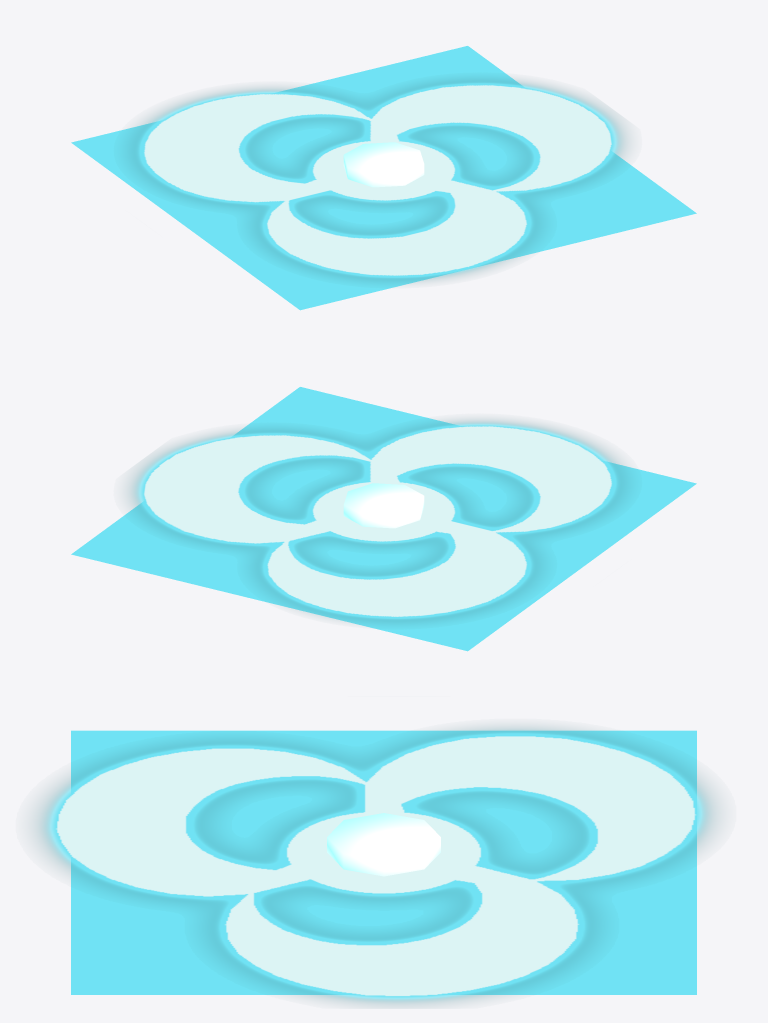
Rendered from fx_glaive_t3.glb.
3 renders of one model, top to bottom at view 1: azimuth 30°, elevation 25°; view 2: azimuth 150°, elevation 25°; view 3: azimuth 270°, elevation 25°, orthographic. The views are drawn at different scales.
Parts seen in each view (by area): view 1: fx_glaive, fx_glaive_halo, fx_glaive_metal; view 2: fx_glaive, fx_glaive_halo, fx_glaive_metal; view 3: fx_glaive, fx_glaive_halo, fx_glaive_metal.
Boxes of the visible parts, left/top/right/bottom form: fx_glaive: left=127, top=78, right=627, bottom=282; fx_glaive_halo: left=71, top=46, right=696, bottom=310; fx_glaive_metal: left=343, top=142, right=424, bottom=187; fx_glaive: left=127, top=419, right=627, bottom=623; fx_glaive_halo: left=71, top=387, right=696, bottom=651; fx_glaive_metal: left=343, top=483, right=424, bottom=528; fx_glaive: left=34, top=726, right=717, bottom=1006; fx_glaive_halo: left=71, top=730, right=696, bottom=994; fx_glaive_metal: left=327, top=813, right=440, bottom=876.
Bounding box in the file's own units: 1.3 × 0.06 × 1.3.
3 materials, 2 textured.
